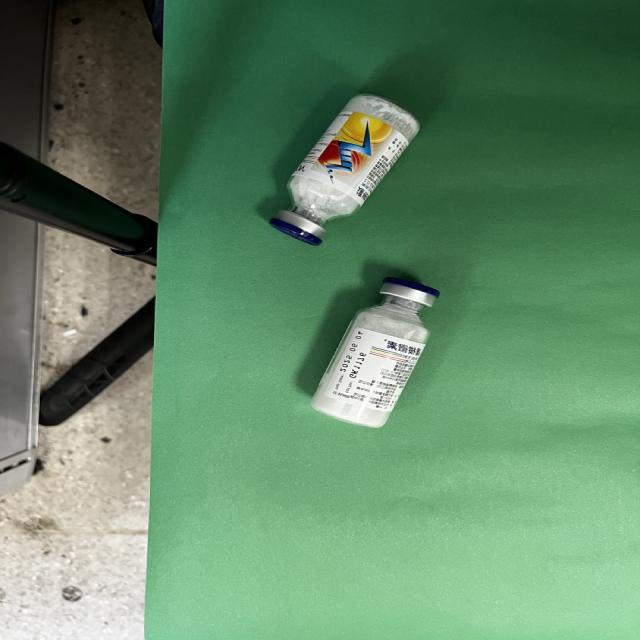Vials: (269, 93, 421, 246), (311, 276, 441, 426)
